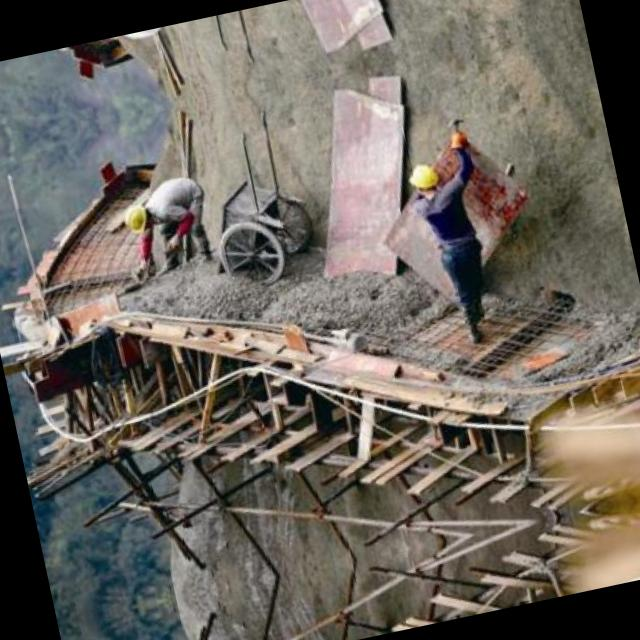helmet: (402, 160, 439, 198), (119, 201, 158, 235)
